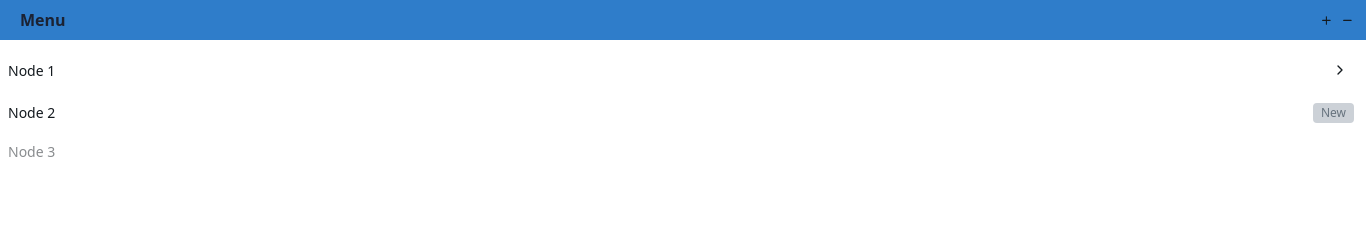
Test: TreeMenu › expands all and collapses all
This screenshot has width=1366, height=252.
Click the button named "Expand all" at (1327, 20), box [1320,14,1333,26]
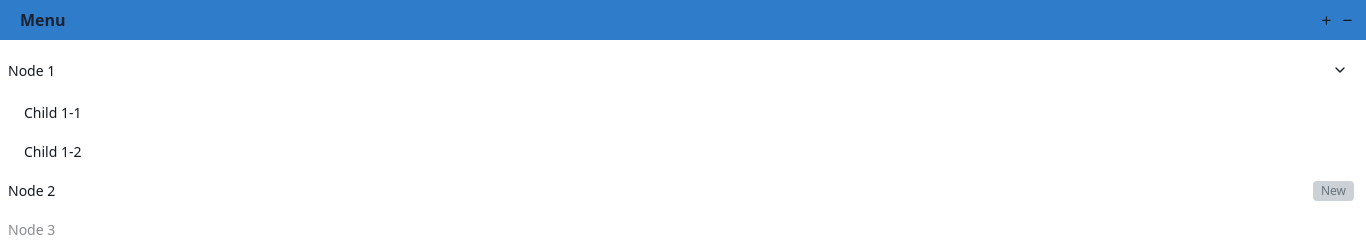
Expected: the text "Child 1-1" is shown, [24,103,82,122]
Click the button named "Collapse all" at (1348, 20), box [1341,14,1354,26]
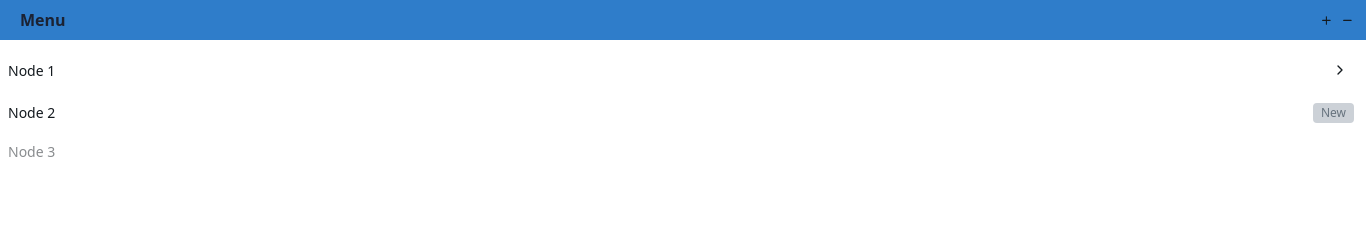
Expected: the button "Child 1-1" is gone
